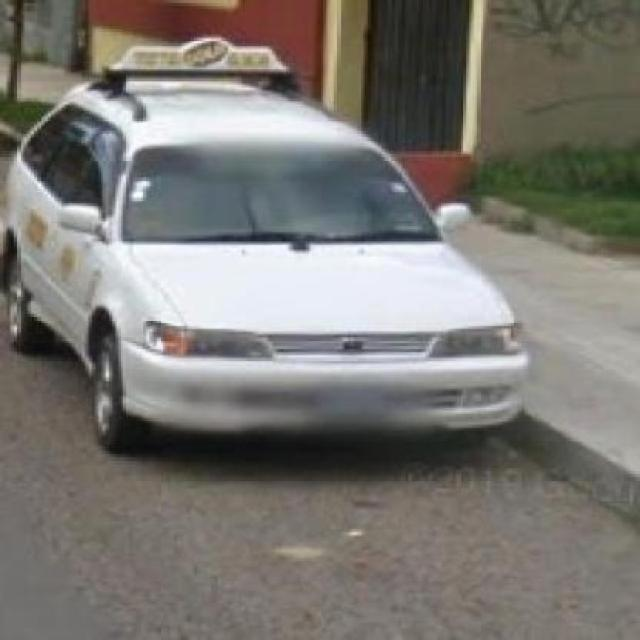car: (11, 48, 531, 464)
